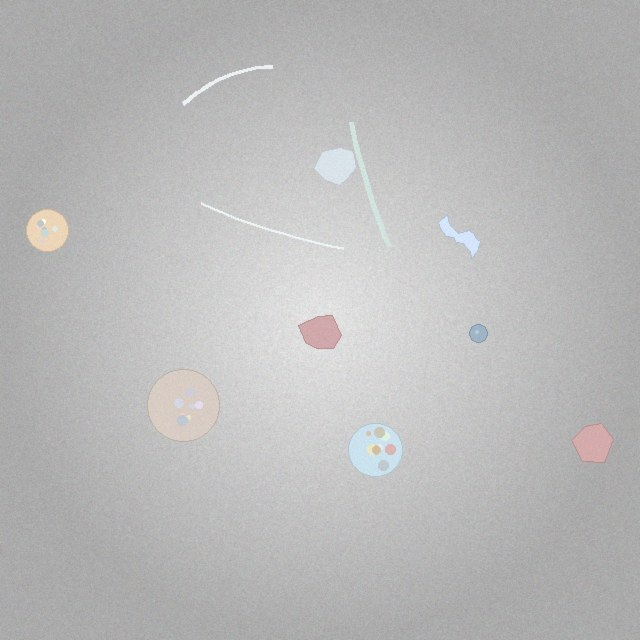fiber: (198, 201, 347, 252), (346, 117, 395, 252), (179, 63, 277, 109)
film: (439, 214, 481, 258)
foam: (148, 369, 220, 442), (349, 423, 403, 477), (26, 210, 68, 252)
fragment: (571, 424, 614, 463), (314, 148, 357, 186), (299, 315, 342, 349)
pellet: (469, 324, 488, 343)
